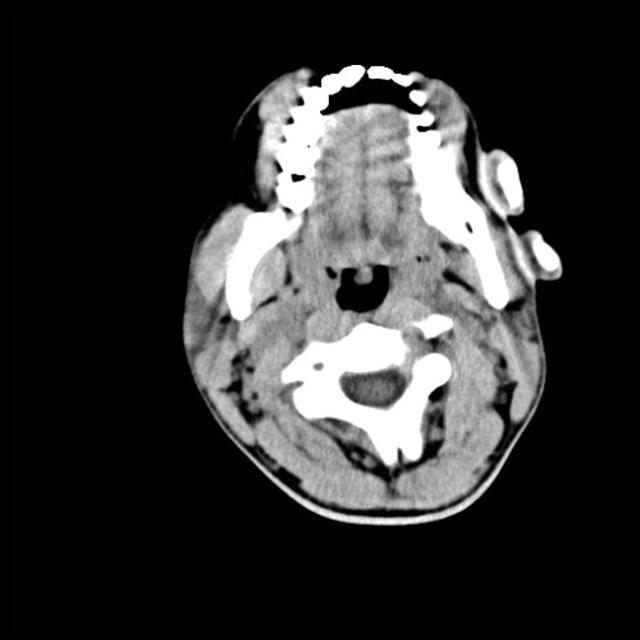lesion: (177, 59, 566, 528)
